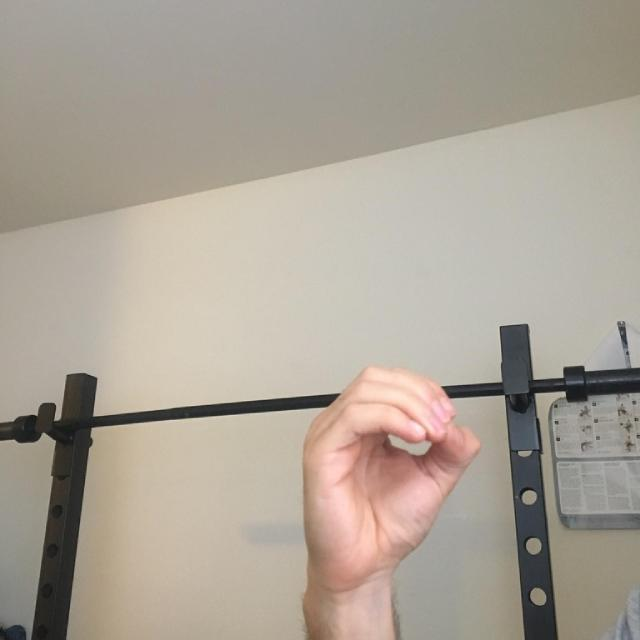O: (230, 289, 516, 631)
